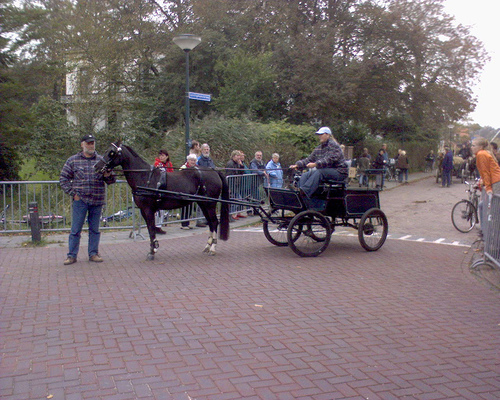horse: (104, 140, 230, 259)
